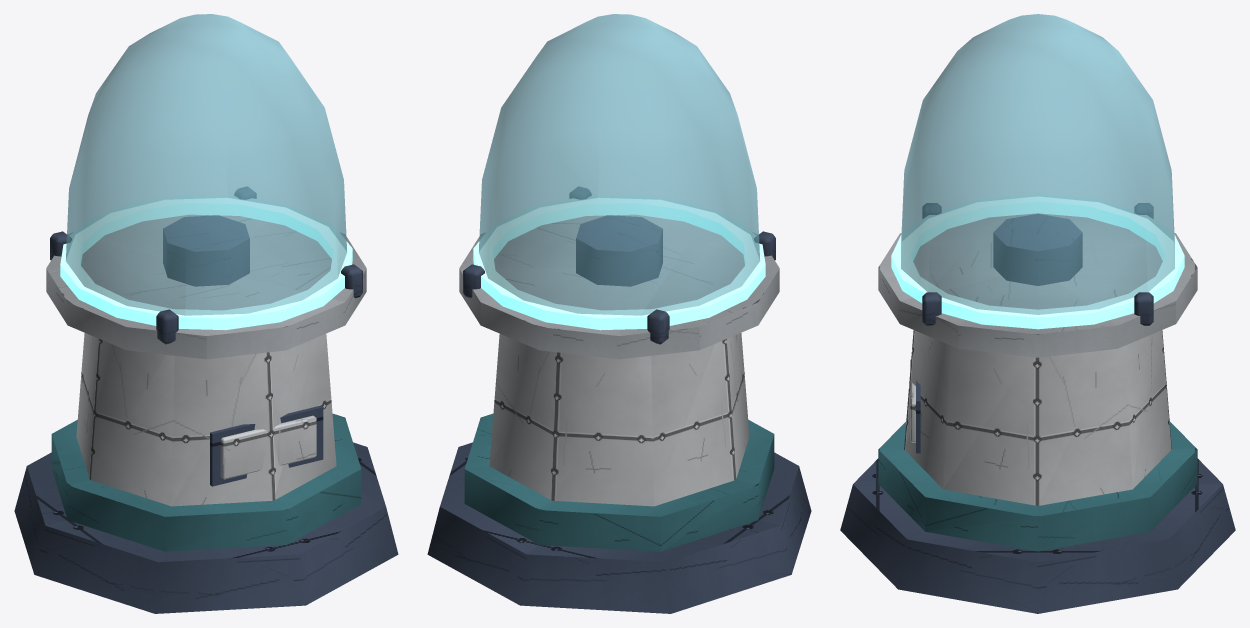
File: display_pedestal.glb
3 renders of one model, left to right at view 1: azimuth 30°, elevation 25°; view 2: azimuth 150°, elevation 25°; view 3: azimuth 270°, elevation 25°, orthographic.
Parts seen in each view (by area): view 1: DL013_DisplayPedestal_glass_cyan, DL013_DisplayPedestal_graphite_navy, DL013_DisplayPedestal_hull_offwhite, DL013_DisplayPedestal_titanium, DL013_DisplayPedestal_teal_shell, DL013_DisplayPedestal_emissive_cyan; view 2: DL013_DisplayPedestal_glass_cyan, DL013_DisplayPedestal_hull_offwhite, DL013_DisplayPedestal_graphite_navy, DL013_DisplayPedestal_titanium, DL013_DisplayPedestal_teal_shell, DL013_DisplayPedestal_emissive_cyan; view 3: DL013_DisplayPedestal_glass_cyan, DL013_DisplayPedestal_hull_offwhite, DL013_DisplayPedestal_graphite_navy, DL013_DisplayPedestal_titanium, DL013_DisplayPedestal_teal_shell, DL013_DisplayPedestal_emissive_cyan.
Part boxes in pixels (x1=…): DL013_DisplayPedestal_glass_cyan: x1=66, y1=14, x2=346, y2=315; DL013_DisplayPedestal_graphite_navy: x1=14, y1=187, x2=398, y2=613; DL013_DisplayPedestal_hull_offwhite: x1=76, y1=333, x2=336, y2=506; DL013_DisplayPedestal_titanium: x1=46, y1=214, x2=366, y2=359; DL013_DisplayPedestal_teal_shell: x1=51, y1=413, x2=361, y2=551; DL013_DisplayPedestal_emissive_cyan: x1=60, y1=195, x2=352, y2=330; DL013_DisplayPedestal_glass_cyan: x1=479, y1=14, x2=759, y2=315; DL013_DisplayPedestal_hull_offwhite: x1=489, y1=333, x2=749, y2=506; DL013_DisplayPedestal_graphite_navy: x1=427, y1=187, x2=811, y2=613; DL013_DisplayPedestal_titanium: x1=459, y1=214, x2=779, y2=359; DL013_DisplayPedestal_teal_shell: x1=464, y1=413, x2=774, y2=551; DL013_DisplayPedestal_emissive_cyan: x1=473, y1=195, x2=765, y2=330; DL013_DisplayPedestal_glass_cyan: x1=901, y1=14, x2=1174, y2=314; DL013_DisplayPedestal_hull_offwhite: x1=904, y1=330, x2=1171, y2=505; DL013_DisplayPedestal_graphite_navy: x1=840, y1=203, x2=1235, y2=613; DL013_DisplayPedestal_titanium: x1=878, y1=213, x2=1197, y2=357; DL013_DisplayPedestal_teal_shell: x1=878, y1=421, x2=1197, y2=551; DL013_DisplayPedestal_emissive_cyan: x1=891, y1=194, x2=1184, y2=329.
Bounding box in the file's own units: 1.24 × 1.73 × 1.24.
6 materials, 4 textured.
